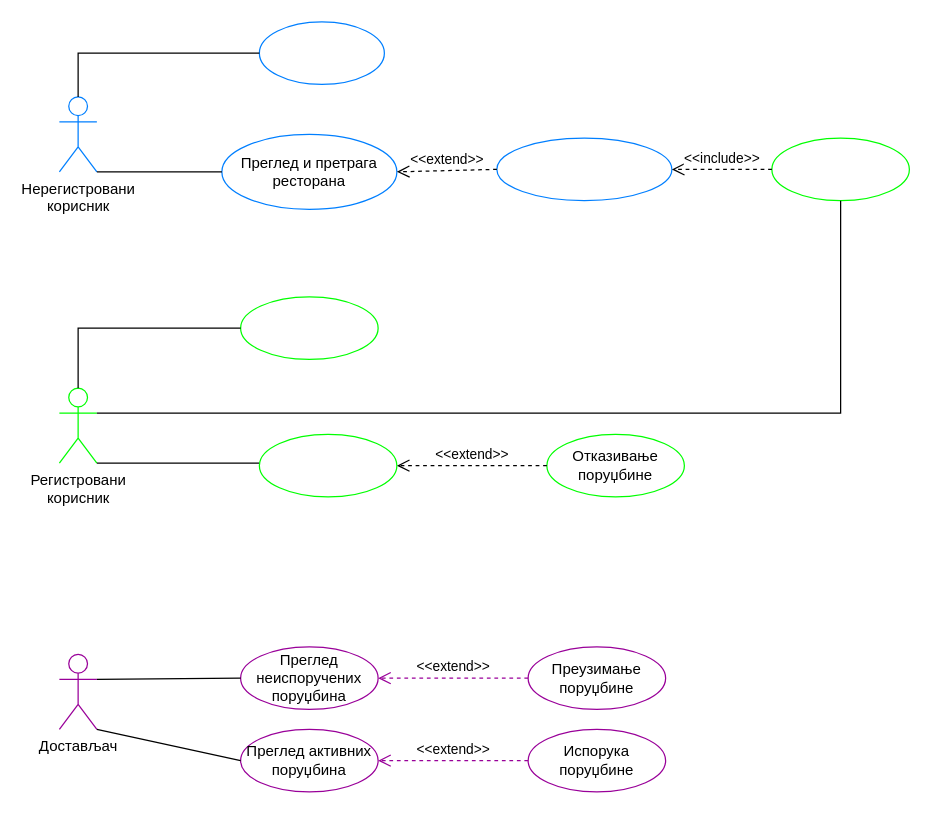
Some shapes in this 931 by 814 pixel diagram are drawn without their labels. Each missing label, with the centre of its shape:
Креирање поруџбине: the point at 840,169
Преглед личних поруџбина: the point at 327,465
Претрага и преглед понуде ресторана: the point at 584,169
Пријава: the point at 308,327
Регистрација: the point at 321,52
